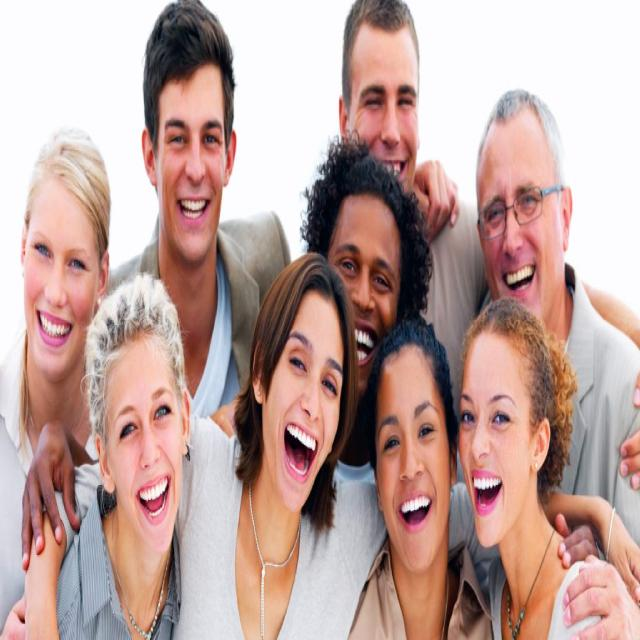without_helmet: (457, 298, 576, 583), (300, 143, 430, 389), (140, 0, 247, 297), (248, 251, 358, 531), (470, 88, 590, 340), (85, 274, 190, 553), (13, 123, 116, 377), (368, 318, 460, 588), (332, 0, 432, 204)
